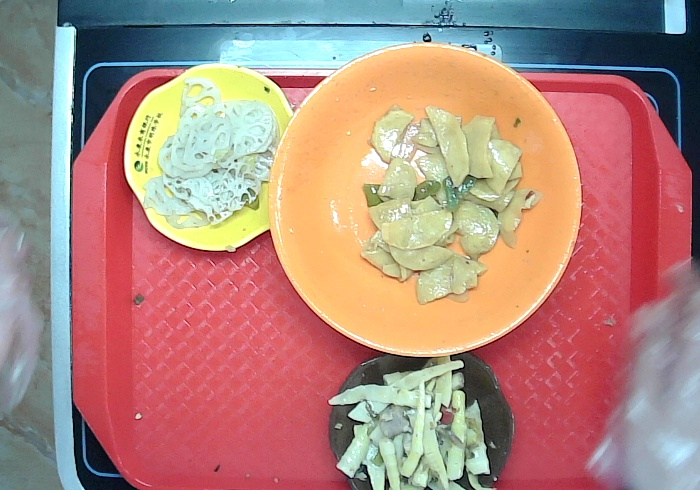YKMZ-Huang_Se_Ao_Bian_Wan: (123, 61, 283, 253)
YKMZ-Ju_Se_Tang_Wan: (268, 43, 584, 362)
YKMZ-Ka_Fei_Ao_Bian_Wan: (325, 349, 518, 490)
